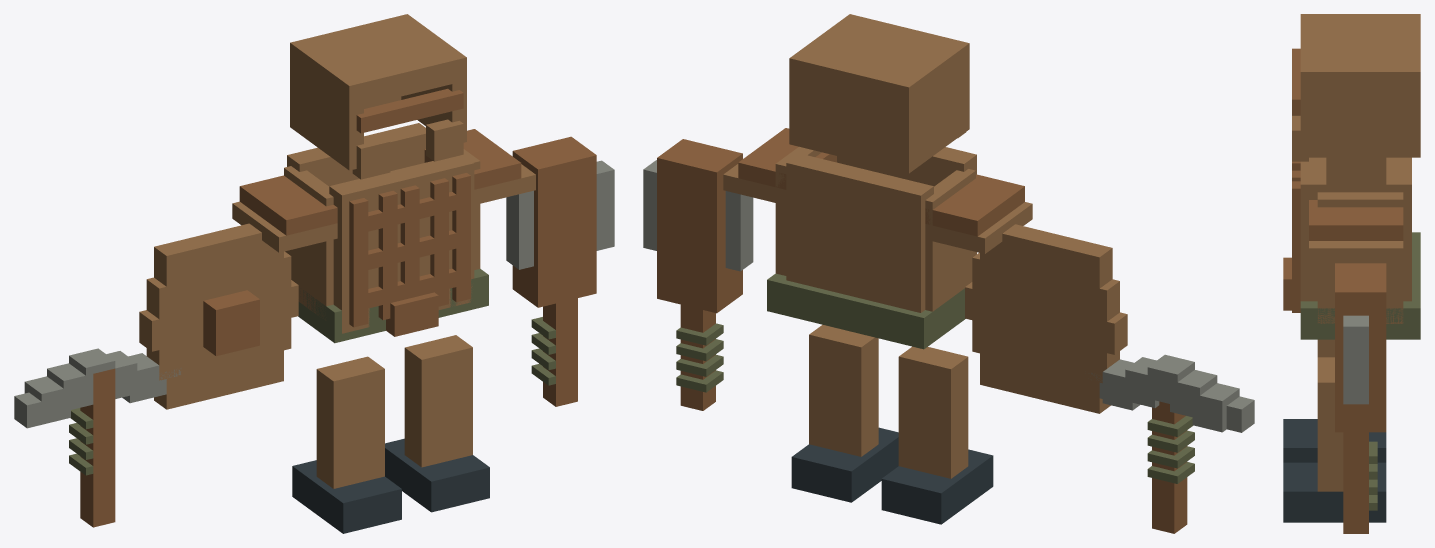
Rendered from gear_baseline_t1.glb.
3 views of the same model, side by side, from view 1: azimuth 30°, elevation 25°; view 2: azimuth 150°, elevation 25°; view 3: azimuth 270°, elevation 25° (orthographic).
Visible parts, largest first — view 1: gear_baseline_t1/armor_chest, gear_baseline_t1/shield, gear_baseline_t1/armor_helmet, gear_baseline_t1/weapon, gear_baseline_t1/armor_greave_left, gear_baseline_t1/armor_greave_right, gear_baseline_t1/utility_tool, gear_baseline_t1/armor_shoulder_left, gear_baseline_t1/armor_belt, gear_baseline_t1/armor_shoulder_right; view 2: gear_baseline_t1/armor_chest, gear_baseline_t1/shield, gear_baseline_t1/armor_helmet, gear_baseline_t1/weapon, gear_baseline_t1/armor_greave_left, gear_baseline_t1/armor_greave_right, gear_baseline_t1/utility_tool, gear_baseline_t1/armor_belt, gear_baseline_t1/armor_shoulder_left, gear_baseline_t1/armor_shoulder_right; view 3: gear_baseline_t1/armor_helmet, gear_baseline_t1/weapon, gear_baseline_t1/armor_chest, gear_baseline_t1/armor_greave_right, gear_baseline_t1/armor_shoulder_right, gear_baseline_t1/armor_belt, gear_baseline_t1/armor_greave_left, gear_baseline_t1/armor_shoulder_left.
Part boxes in pixels (<box>): gear_baseline_t1/armor_chest: <box>284,123,480,333</box>; gear_baseline_t1/shield: <box>139,223,298,409</box>; gear_baseline_t1/armor_helmet: <box>290,14,466,179</box>; gear_baseline_t1/weapon: <box>506,136,614,406</box>; gear_baseline_t1/armor_greave_left: <box>292,356,401,533</box>; gear_baseline_t1/armor_greave_right: <box>385,335,489,512</box>; gear_baseline_t1/utility_tool: <box>14,348,181,527</box>; gear_baseline_t1/armor_shoulder_left: <box>232,175,337,252</box>; gear_baseline_t1/armor_belt: <box>298,268,488,343</box>; gear_baseline_t1/armor_shoulder_right: <box>424,129,535,204</box>; gear_baseline_t1/armor_chest: <box>775,146,976,312</box>; gear_baseline_t1/shield: <box>965,224,1127,413</box>; gear_baseline_t1/armor_helmet: <box>789,14,969,173</box>; gear_baseline_t1/weapon: <box>643,139,753,410</box>; gear_baseline_t1/armor_greave_left: <box>881,346,993,524</box>; gear_baseline_t1/armor_greave_right: <box>791,324,898,502</box>; gear_baseline_t1/utility_tool: <box>1091,354,1254,533</box>; gear_baseline_t1/armor_belt: <box>767,273,965,349</box>; gear_baseline_t1/armor_shoulder_left: <box>925,174,1032,253</box>; gear_baseline_t1/armor_shoulder_right: <box>723,128,836,205</box>; gear_baseline_t1/armor_helmet: <box>1292,14,1420,161</box>; gear_baseline_t1/weapon: <box>1335,263,1386,533</box>; gear_baseline_t1/armor_chest: <box>1292,157,1411,323</box>; gear_baseline_t1/armor_greave_right: <box>1283,357,1386,522</box>; gear_baseline_t1/armor_shoulder_right: <box>1309,200,1403,263</box>; gear_baseline_t1/armor_belt: <box>1283,232,1420,339</box>; gear_baseline_t1/armor_greave_left: <box>1283,339,1386,462</box>; gear_baseline_t1/armor_shoulder_left: <box>1326,158,1386,169</box>.
Bounding box in the file's own units: 2.5 × 1.78 × 0.5.
